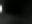person: (1, 4, 4, 15)
